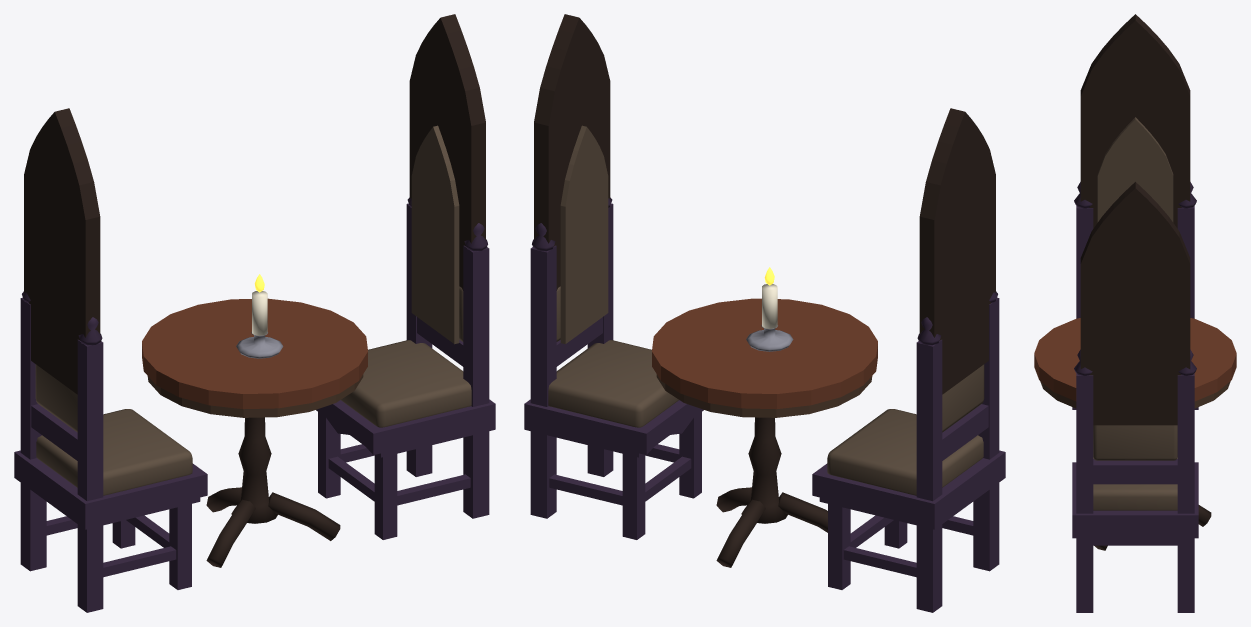
File: table_chairs.glb
3 renders of one model, left to right at view 1: azimuth 30°, elevation 25°; view 2: azimuth 150°, elevation 25°; view 3: azimuth 270°, elevation 25°, orthographic. The views are drawn at different scales.
Parts seen in each view (by area): view 1: table_chairs; view 2: table_chairs; view 3: table_chairs.
Boxes of the visible parts, <box> form: table_chairs: <box>14,14,495,612</box>; table_chairs: <box>524,14,1005,612</box>; table_chairs: <box>1034,14,1236,612</box>.
Size of the model in its own units: 1 by 1.11 by 0.48.
